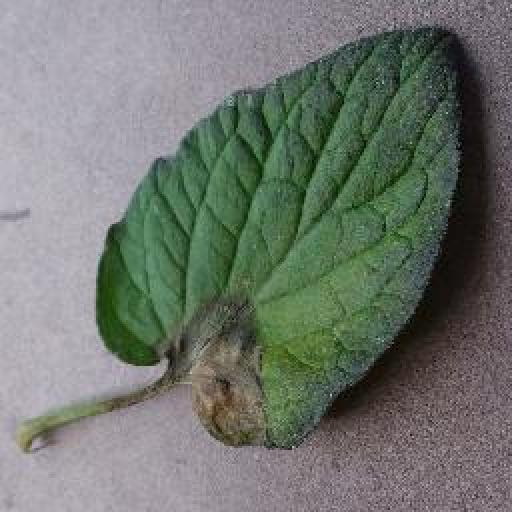Late Blight: (93, 25, 459, 451)
